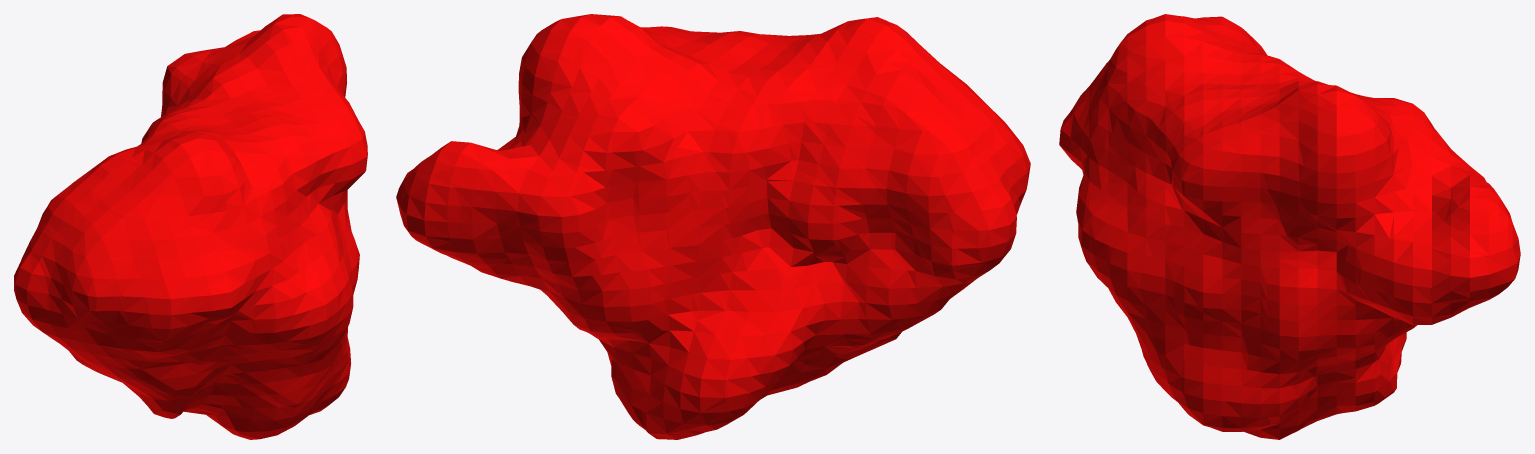
Rendered from metC_coarse.dae.
3 views of the same model, side by side, from view 1: azimuth 30°, elevation 25°; view 2: azimuth 150°, elevation 25°; view 3: azimuth 270°, elevation 25° (orthographic). The views are drawn at different scales.
Visible parts, largest first — view 1: metC; view 2: metC; view 3: metC.
Boxes of the visible parts, x1,y1,x2,y2 form: metC: (14, 14, 367, 439); metC: (396, 14, 1030, 439); metC: (1059, 14, 1520, 439).
Size of the model in its own units: 71.52 by 58.25 by 63.68.
